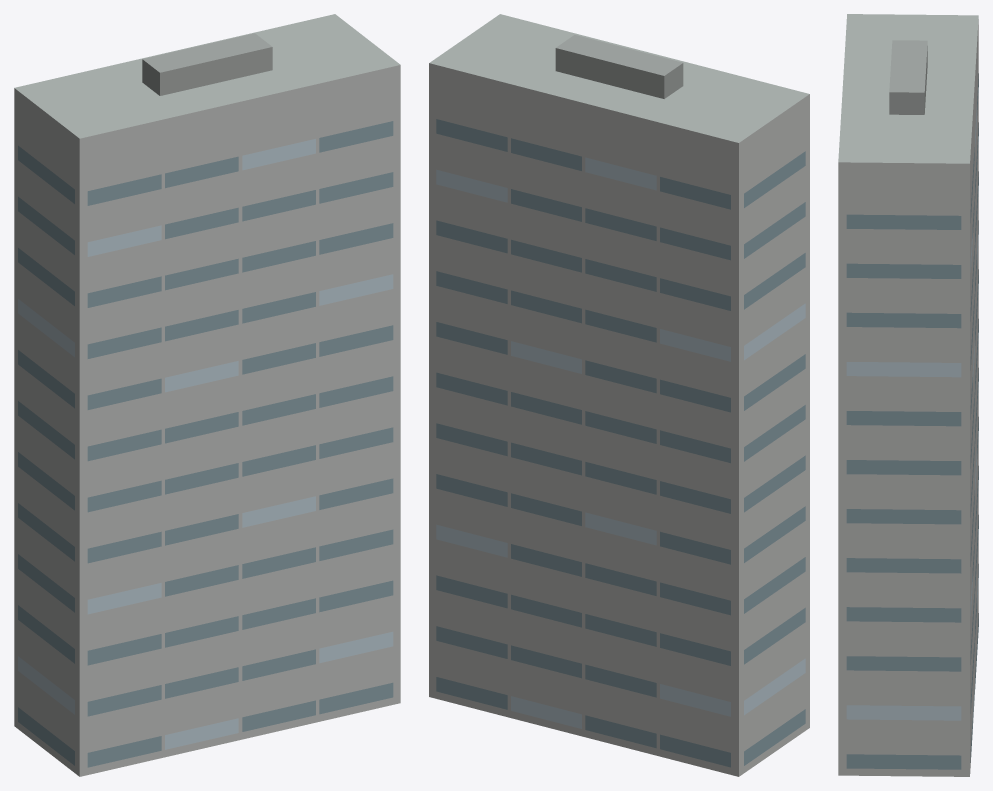
Rendered from fallback-sk-bukhansan-city-131.glb.
3 renders of one model, left to right at view 1: azimuth 30°, elevation 25°; view 2: azimuth 150°, elevation 25°; view 3: azimuth 270°, elevation 25°, orthographic. The views are drawn at different scales.
Visible parts, largest first — view 1: fallback-sk-bukhansan-city-131; view 2: fallback-sk-bukhansan-city-131; view 3: fallback-sk-bukhansan-city-131.
Boxes of the visible parts, x1,y1,x2,y2 form: fallback-sk-bukhansan-city-131: [14, 14, 400, 776]; fallback-sk-bukhansan-city-131: [429, 14, 809, 776]; fallback-sk-bukhansan-city-131: [838, 14, 978, 776].
Size of the model in its own units: 34.4 by 68 by 13.66.
